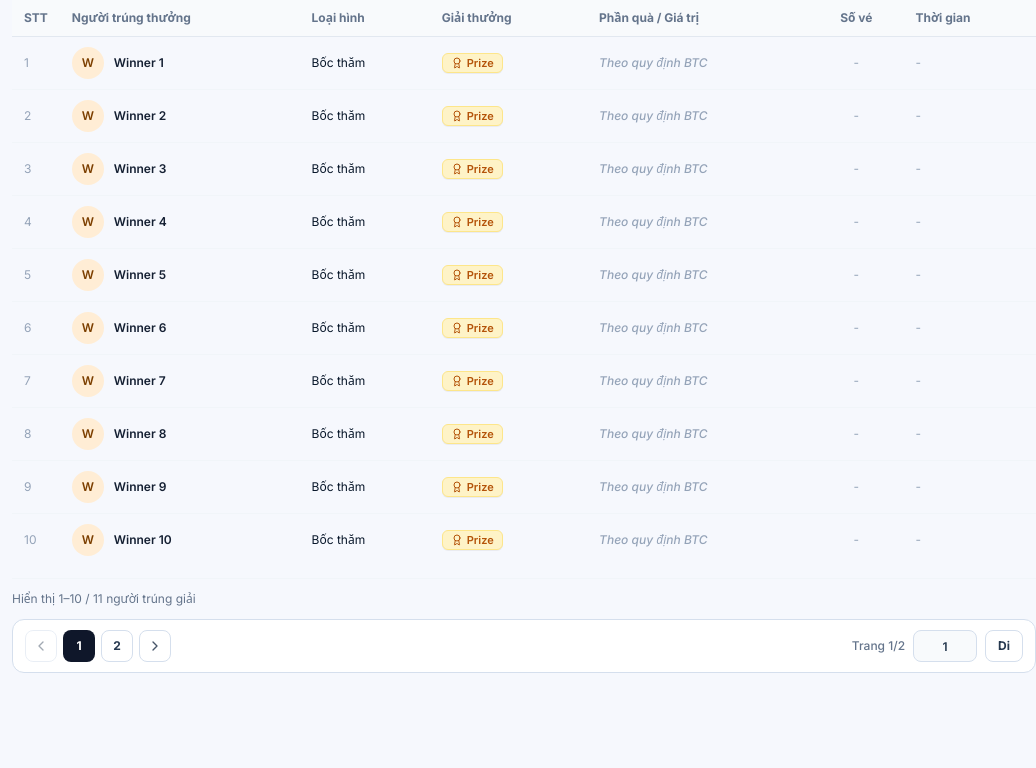
Test: paginates winners and keeps row numbers continuous across pages
Expected: the text "Winner 1" is shown, [114,55,164,71]
Expected: the text "Winner 11" is not shown
Click the button "2".
click(117, 646)  # box [101,630,133,662]
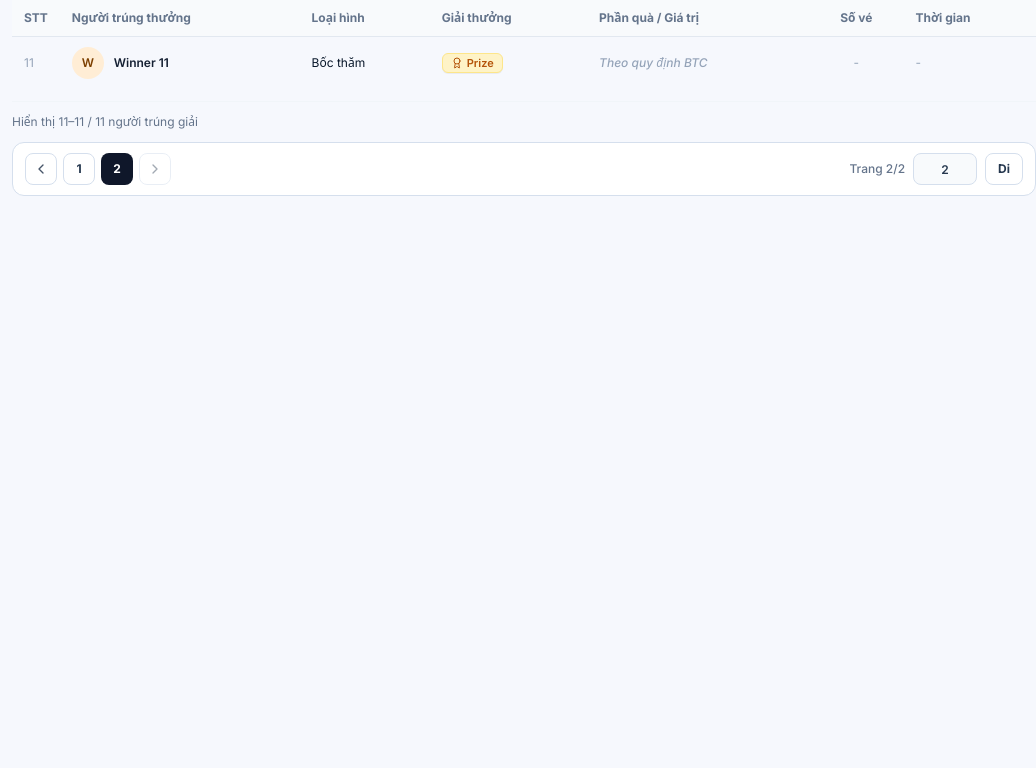
Now the text "Winner 11" is shown, box [114,55,169,71]
Now the text "11" is shown, box [12,36,60,89]
Now the text "Trang 2/2" is shown, box [849,161,905,177]
